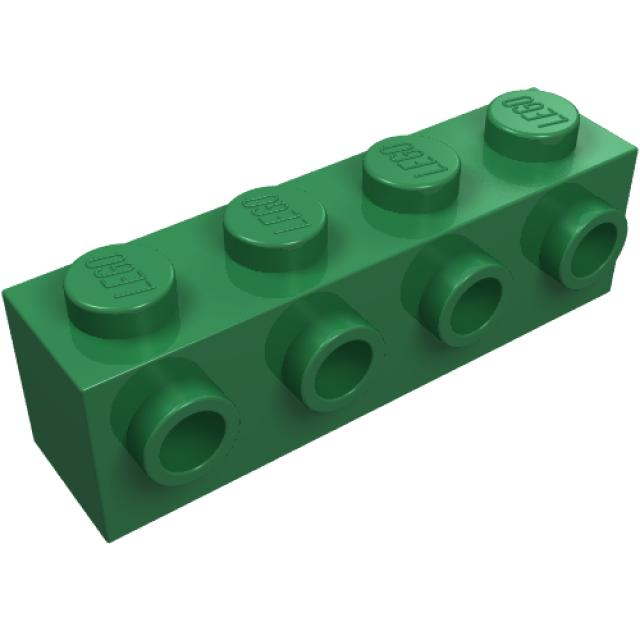Green_Medium: (4, 88, 640, 545)
